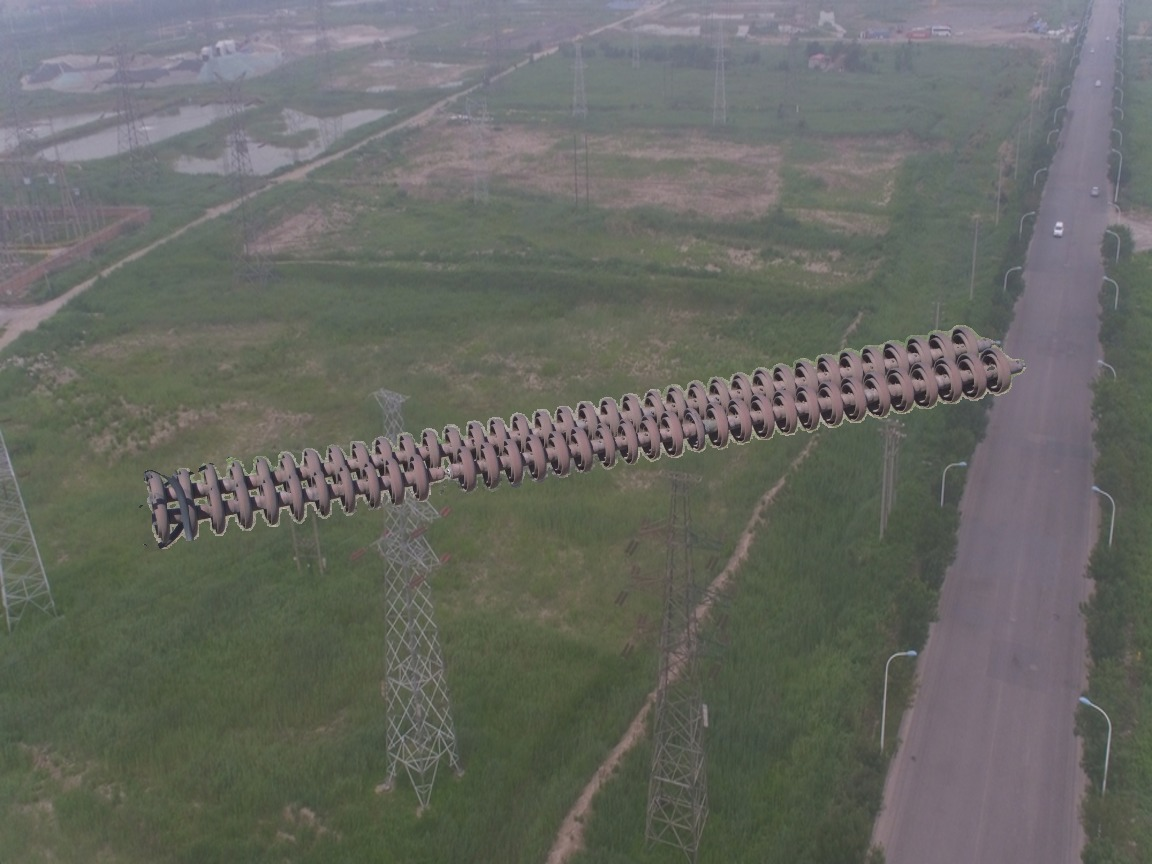defect: (405, 443, 480, 501)
